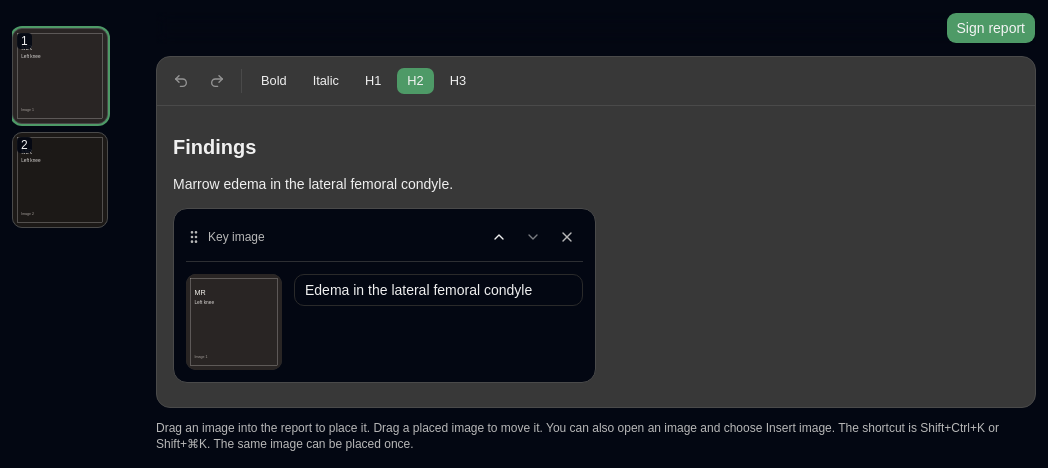
Test: moves a key image up and then down again
Later steps or results of the test are not shown.
Expected: the field named "Caption" is shown, [294,274,583,306]
Expected: the button named "Move image down" is disabled, [517,221,549,253]
Click the button named "Move image up" at (499, 237), box [483,221,515,253]
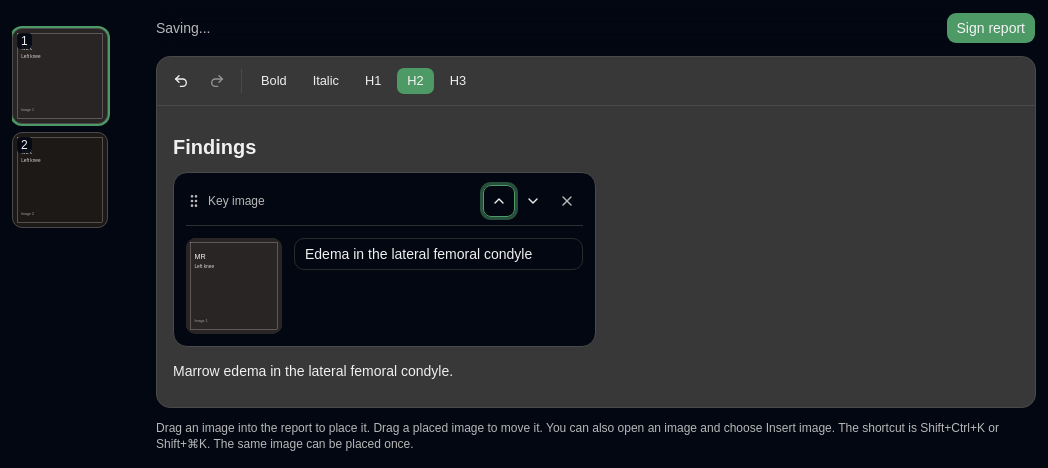
Click the button named "Move image up" at (499, 201), box [483,185,515,217]
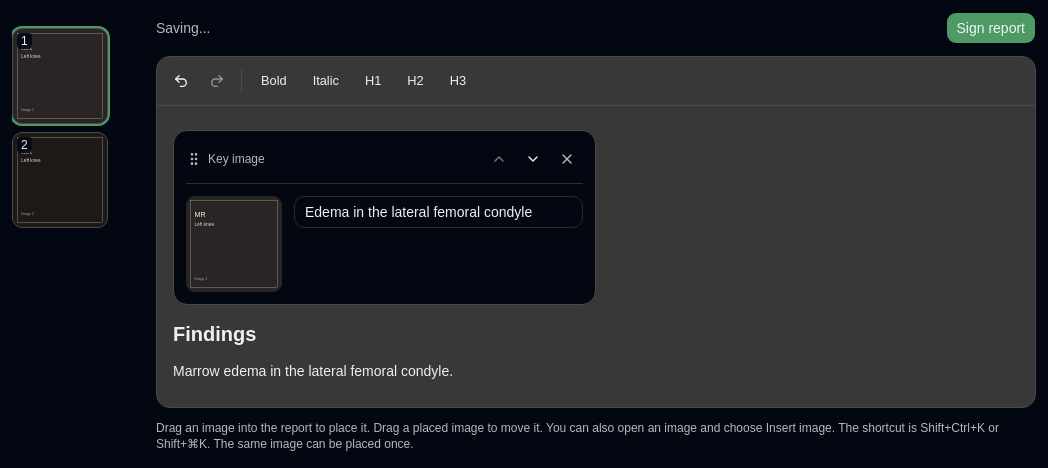
Expected: the button named "Move image up" is disabled, [483,143,515,175]
